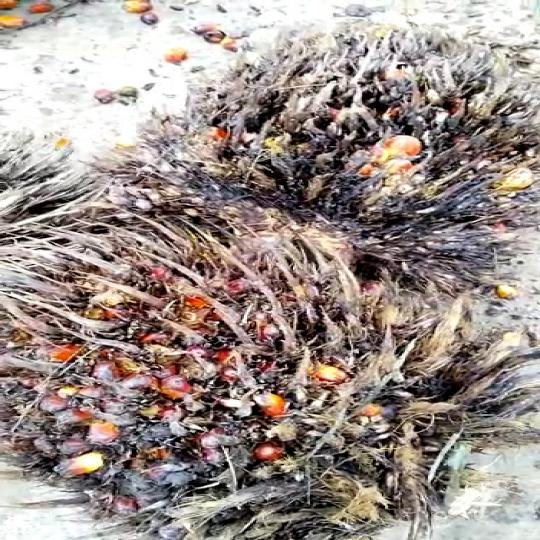terlalu masak: (0, 222, 502, 540), (122, 21, 540, 270)
